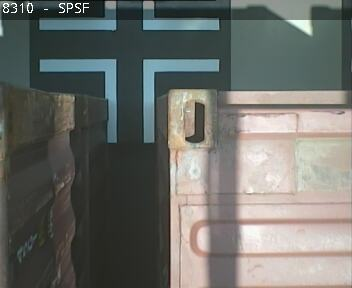groundmarker_1: (41, 57, 219, 141)
